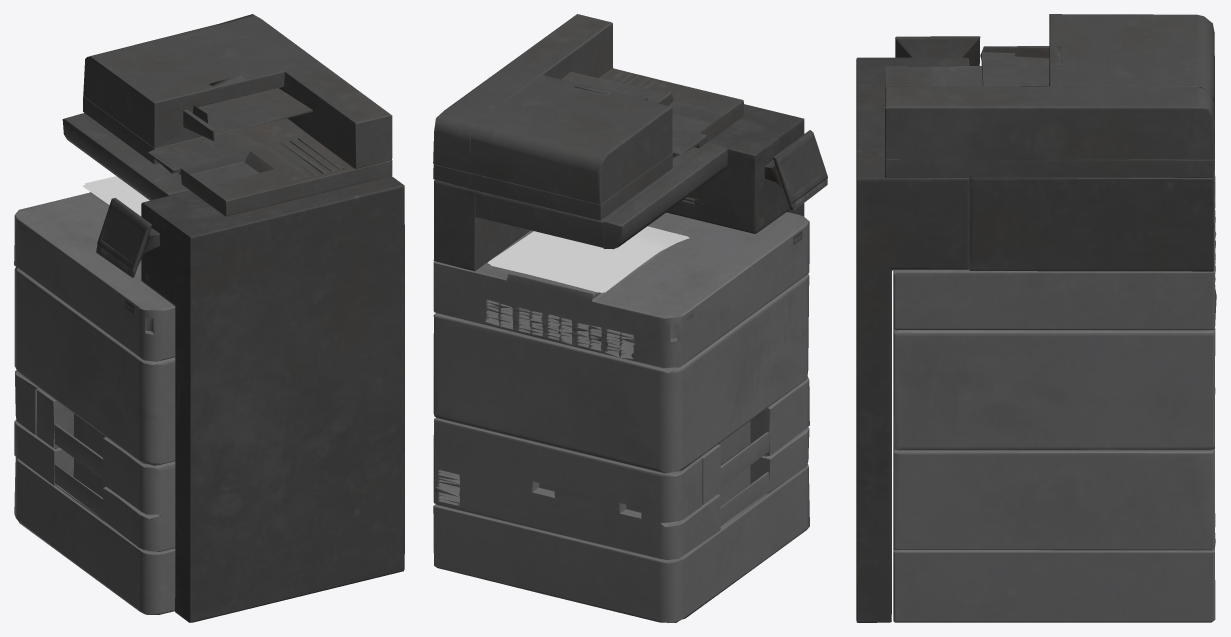
The model's file is SM_Printer.fbx.
3 renders of one model, left to right at view 1: azimuth 30°, elevation 25°; view 2: azimuth 150°, elevation 25°; view 3: azimuth 270°, elevation 25°, orthographic. The views are drawn at different scales.
Parts seen in each view (by area): view 1: SM_Printer_LOD0; view 2: SM_Printer_LOD0; view 3: SM_Printer_LOD0.
Boxes of the visible parts, left/top/right/bottom form: SM_Printer_LOD0: left=14, top=14, right=404, bottom=622; SM_Printer_LOD0: left=433, top=14, right=827, bottom=622; SM_Printer_LOD0: left=856, top=14, right=1216, bottom=622.
Size of the model in its own units: 89.65 by 94.43 by 150.
